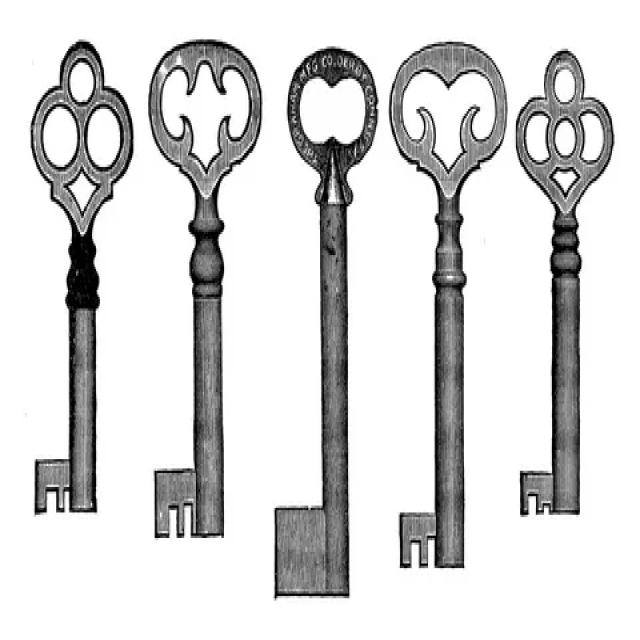key: (270, 33, 375, 629), (147, 15, 257, 557), (515, 23, 620, 543)
